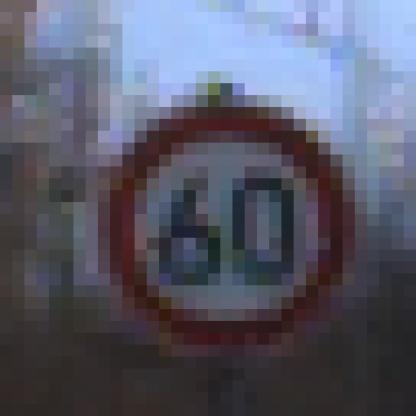Speed Limit -60-: (93, 42, 357, 373)
